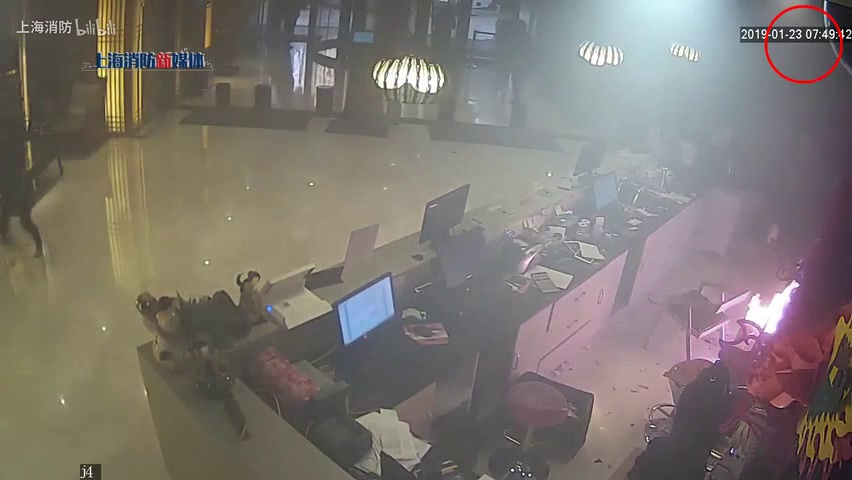fire: (742, 275, 801, 344)
